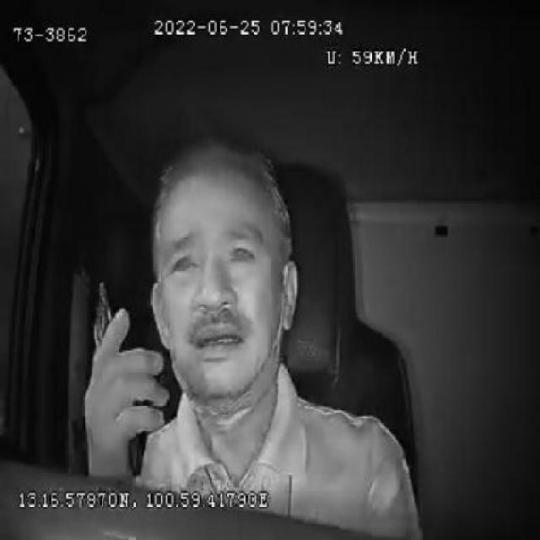phone: (89, 277, 152, 480)
